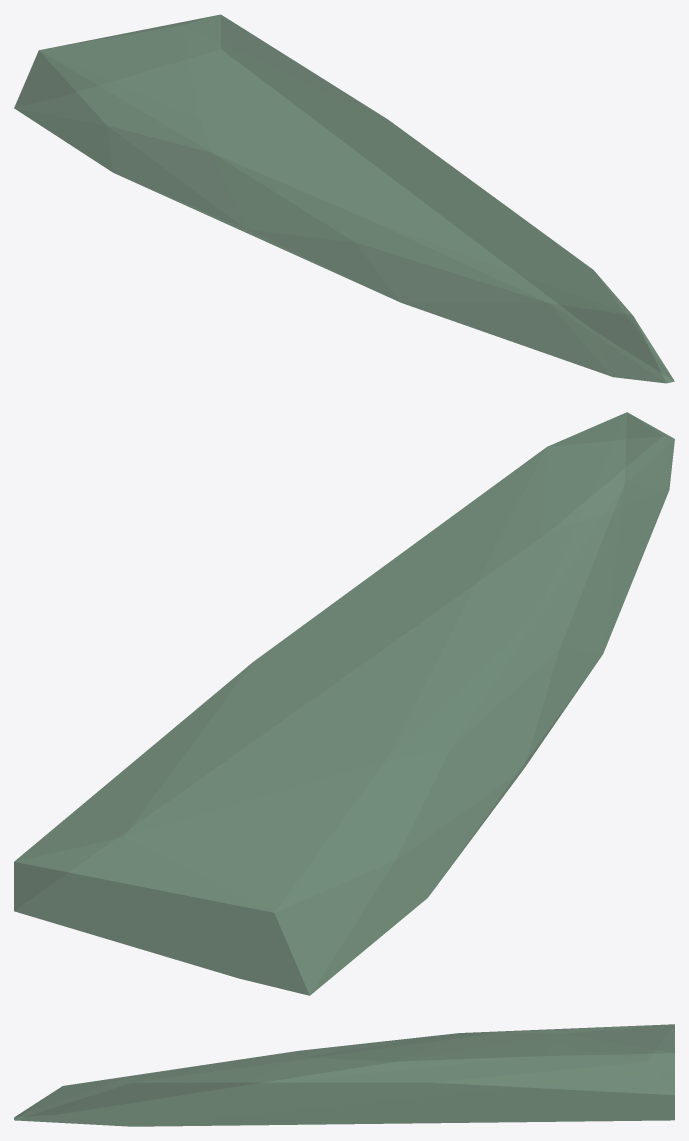
The picture shows the model from 3 angles, top to bottom: view 1: azimuth 30°, elevation 25°; view 2: azimuth 150°, elevation 25°; view 3: azimuth 270°, elevation 25°; orthographic projection. The views are drawn at different scales.
Visible parts, largest first — view 1: Shape_IndexedFaceSet.059_Shape_IndexedFaceSet.13131; view 2: Shape_IndexedFaceSet.059_Shape_IndexedFaceSet.13131; view 3: Shape_IndexedFaceSet.059_Shape_IndexedFaceSet.13131.
Boxes of the visible parts, box(x1,y1,x2,y2) form: Shape_IndexedFaceSet.059_Shape_IndexedFaceSet.13131: box(14, 14, 674, 383); Shape_IndexedFaceSet.059_Shape_IndexedFaceSet.13131: box(14, 412, 674, 995); Shape_IndexedFaceSet.059_Shape_IndexedFaceSet.13131: box(14, 1024, 674, 1126).
Size of the model in its own units: 0.0567 by 0.0159 by 0.2155.
